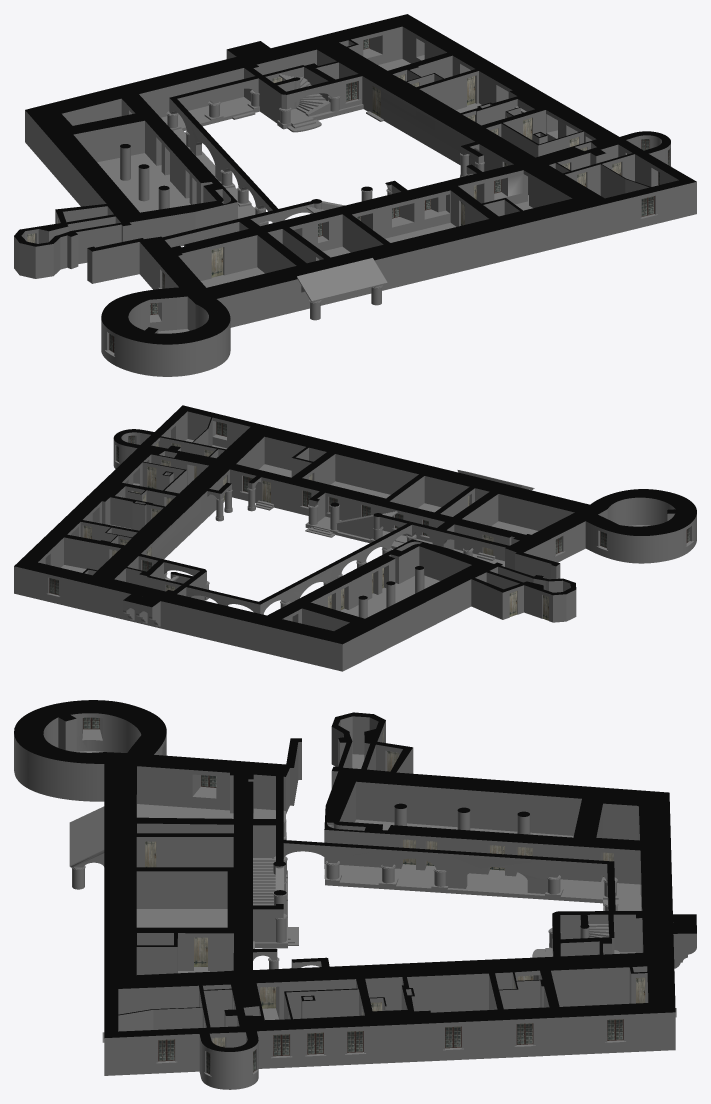
Rendered from 1_STAVS_a.fbx.
3 renders of one model, top to bottom at view 1: azimuth 30°, elevation 25°; view 2: azimuth 150°, elevation 25°; view 3: azimuth 270°, elevation 25°, orthographic. The views are drawn at different scales.
Parts seen in each view (by area): view 1: 1_STAVS, 1_GRIEZUMS, 1_GRIDA, 1_KAPNES, 1_LD, 1_JUMTS; view 2: 1_STAVS, 1_GRIEZUMS, 1_LD, 1_GRIDA, 1_KAPNES; view 3: 1_STAVS, 1_GRIEZUMS, 1_KAPNES, 1_LD, 1_GRIDA, 1_JUMTS.
Part boxes in pixels (x1,y1,x2,y2): 1_STAVS: (14, 26, 696, 376); 1_GRIEZUMS: (14, 14, 696, 344); 1_GRIDA: (97, 59, 532, 333); 1_KAPNES: (161, 74, 526, 226); 1_LD: (27, 39, 671, 356); 1_JUMTS: (297, 258, 387, 300); 1_STAVS: (14, 411, 696, 671); 1_GRIEZUMS: (14, 405, 696, 644); 1_LD: (46, 421, 693, 621); 1_GRIDA: (61, 439, 650, 616); 1_KAPNES: (121, 496, 504, 600); 1_STAVS: (14, 713, 696, 1089); 1_GRIEZUMS: (14, 700, 696, 1051); 1_KAPNES: (253, 808, 641, 957); 1_LD: (83, 717, 676, 1076); 1_GRIDA: (77, 751, 635, 1019); 1_JUMTS: (69, 806, 104, 865).
Bounding box in the file's own units: 60023 × 3295 × 49116.
